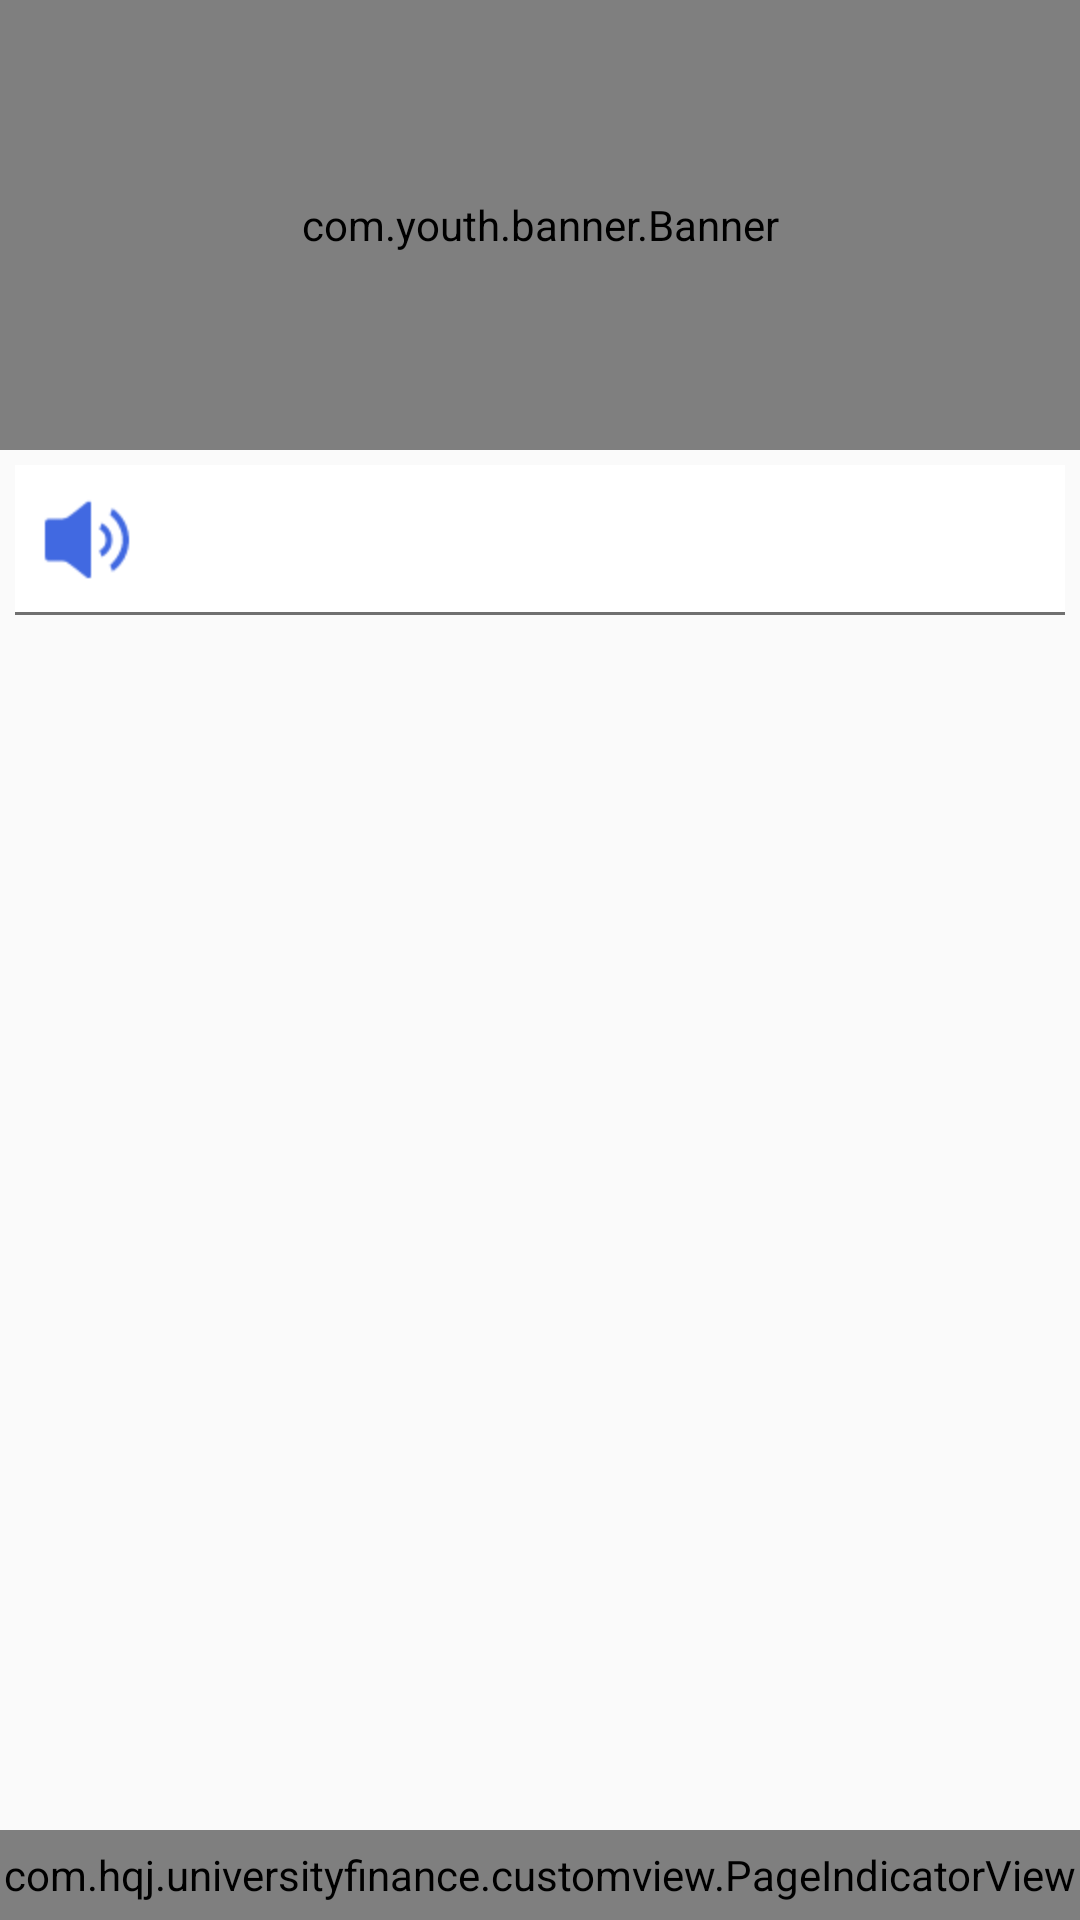

Screen size 1080*1920. Icon name, then its center in pixels as (x=x, y=y):
notice: (x=87, y=540)
